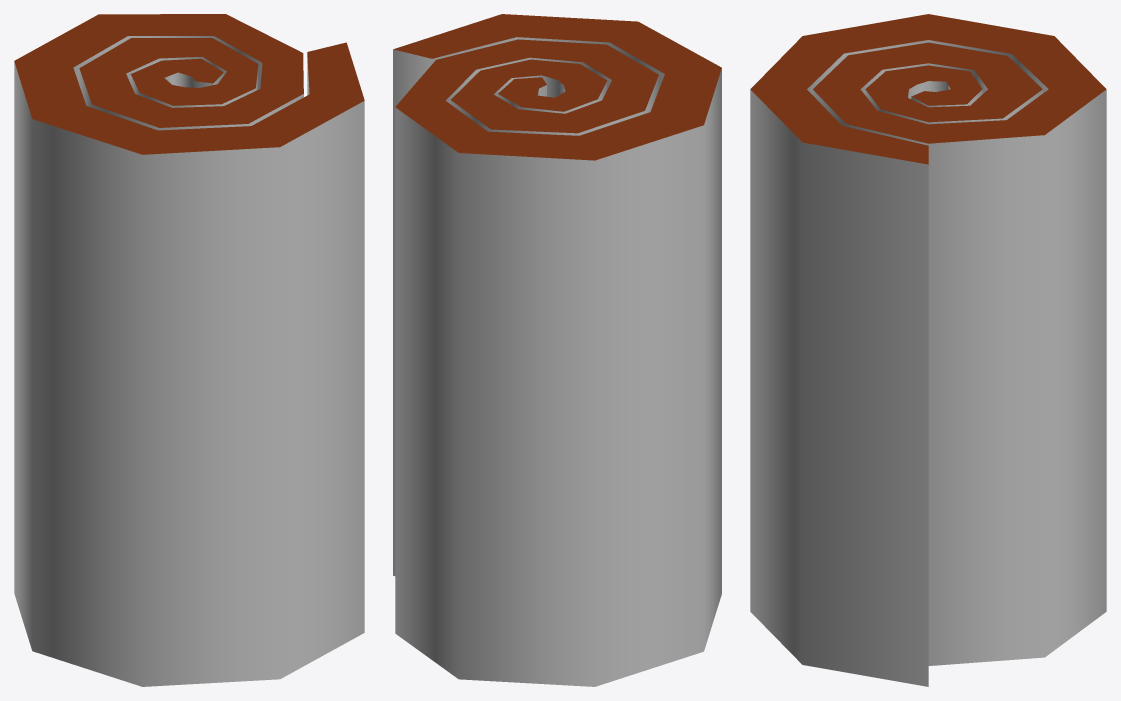
The model's file is projectile_bubblewrap.fbx.
3 views of the same model, side by side, from view 1: azimuth 30°, elevation 25°; view 2: azimuth 150°, elevation 25°; view 3: azimuth 270°, elevation 25° (orthographic).
Parts seen in each view (by area): view 1: Cylinder.001; view 2: Cylinder.001; view 3: Cylinder.001.
Boxes of the visible parts, left/top/right/bottom form: Cylinder.001: left=14, top=14, right=364, bottom=686; Cylinder.001: left=393, top=14, right=721, bottom=686; Cylinder.001: left=750, top=14, right=1106, bottom=686.
Size of the model in its own units: 0.8364 by 1.35 by 0.8364.
